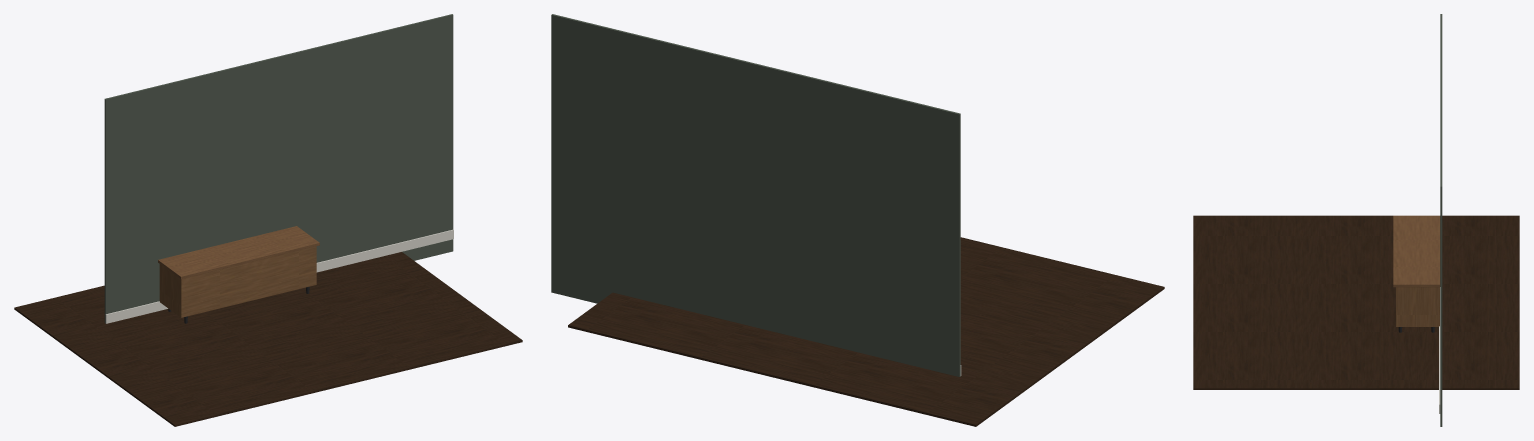
File: tape_room.glb
The picture shows the model from 3 angles, left to right: view 1: azimuth 30°, elevation 25°; view 2: azimuth 150°, elevation 25°; view 3: azimuth 270°, elevation 25°; orthographic projection. The views are drawn at different scales.
Parts seen in each view (by area): view 1: wall, floor, board_carcass, board_top, skirting; view 2: wall, floor; view 3: floor, board_top, board_carcass, wall.
Part boxes in pixels (x1,y1,x2,y2): wall: (104,14,453,323); floor: (14,252,522,426); board_carcass: (159,246,316,317); board_top: (158,226,319,279); skirting: (105,229,453,323); wall: (551,14,960,376); floor: (568,237,1164,426); floor: (1193,215,1519,389); board_top: (1393,215,1440,287); board_carcass: (1396,287,1439,326); wall: (1440,14,1442,426).
Size of the model in its own units: 4.6 by 2.6 by 3.2.
6 materials, 3 textured.
